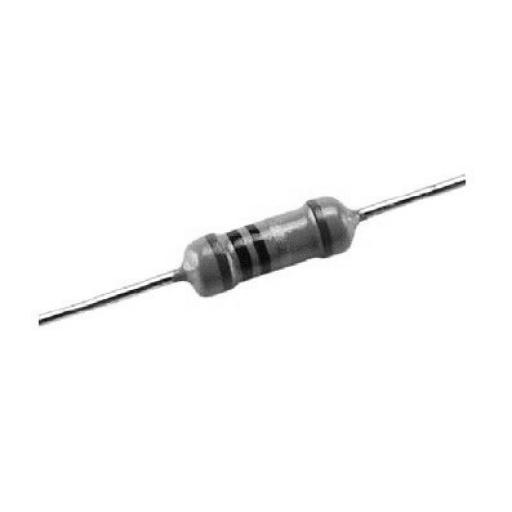RESISTOR: (98, 175, 408, 350)
